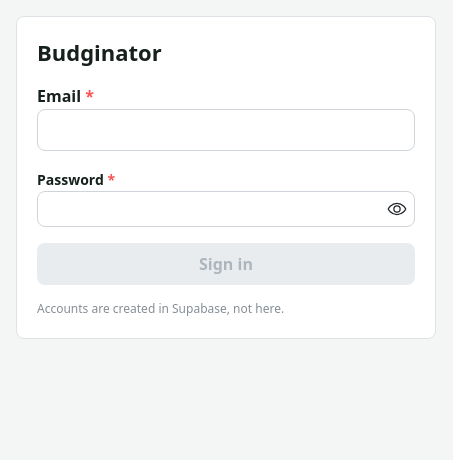
Test: SignInView › reports a rejected sign-in and clears only the password
Step 1. Type "me@example.com" into the field labelled "Email *" → (226, 130), box [37,109,415,151]
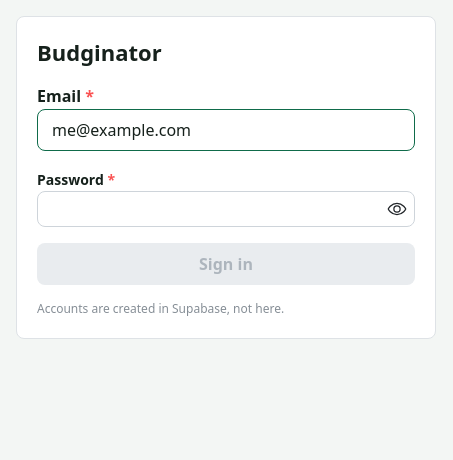
Step 2. Type "wrong" into the password field labelled "Password *" → (226, 209), box [38,192,414,226]
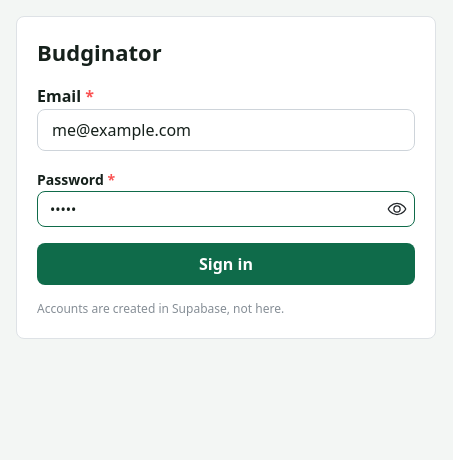
Step 3. Click the button "Sign in" → (226, 264), box [37,243,415,285]
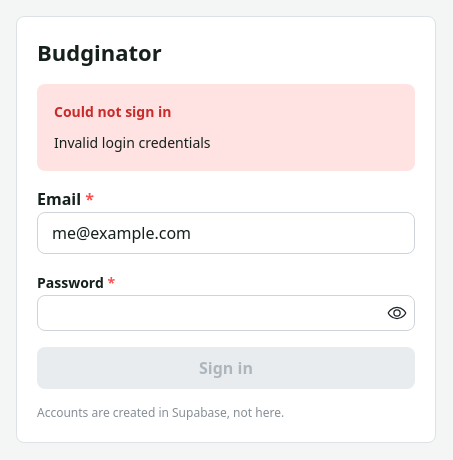
Check: the text "Invalid login credentials" is shown, box [54,134,211,152]
Check: the password field labelled "Password *" is empty, box [38,296,414,330]
